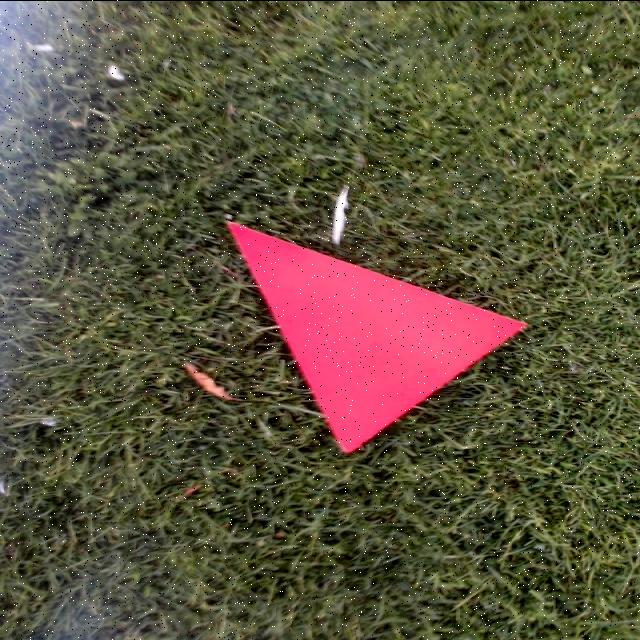red_triangle: (228, 220, 528, 453)
